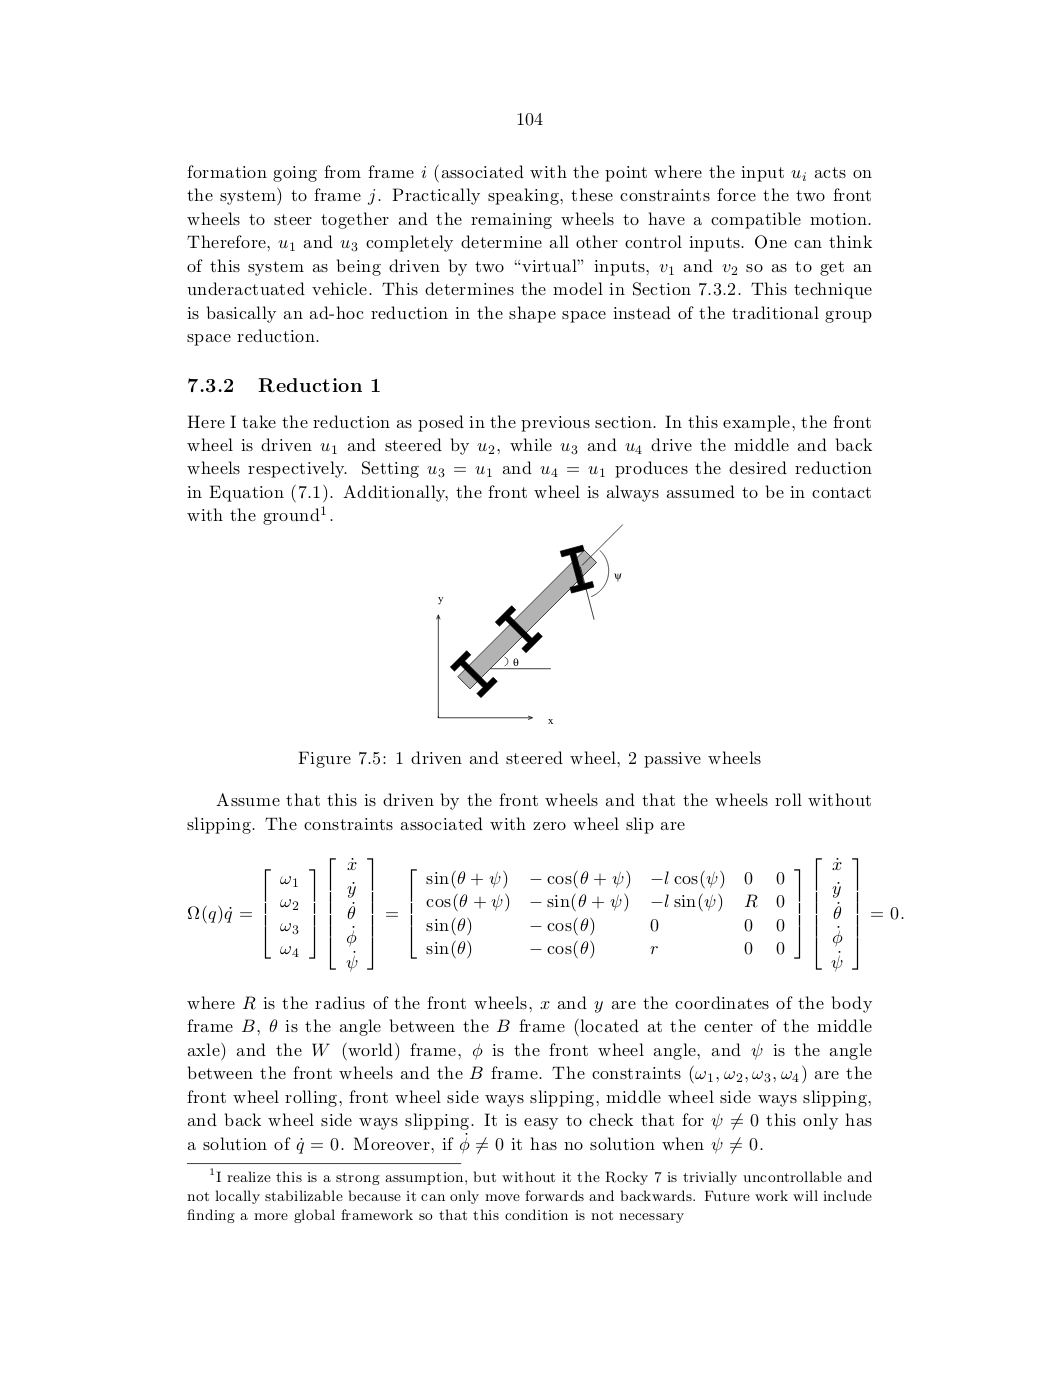figure: (436, 524, 623, 723)
formula: (187, 858, 903, 971)
